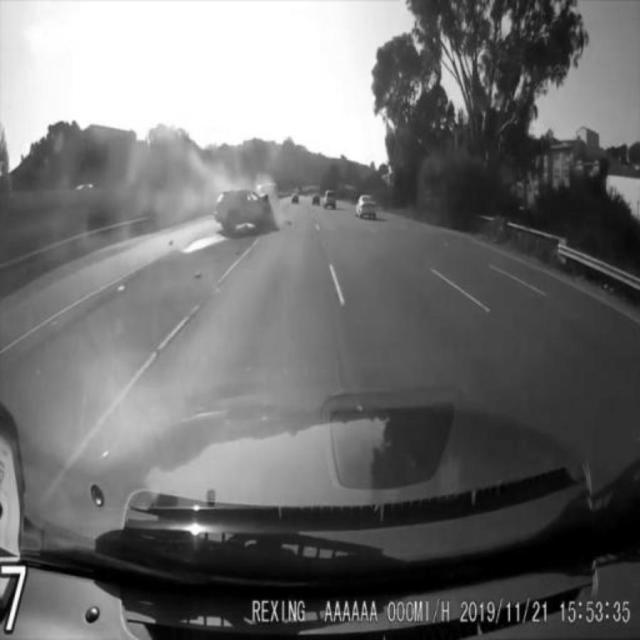vehicle: (212, 183, 276, 231), (354, 192, 382, 220), (320, 185, 344, 212)
